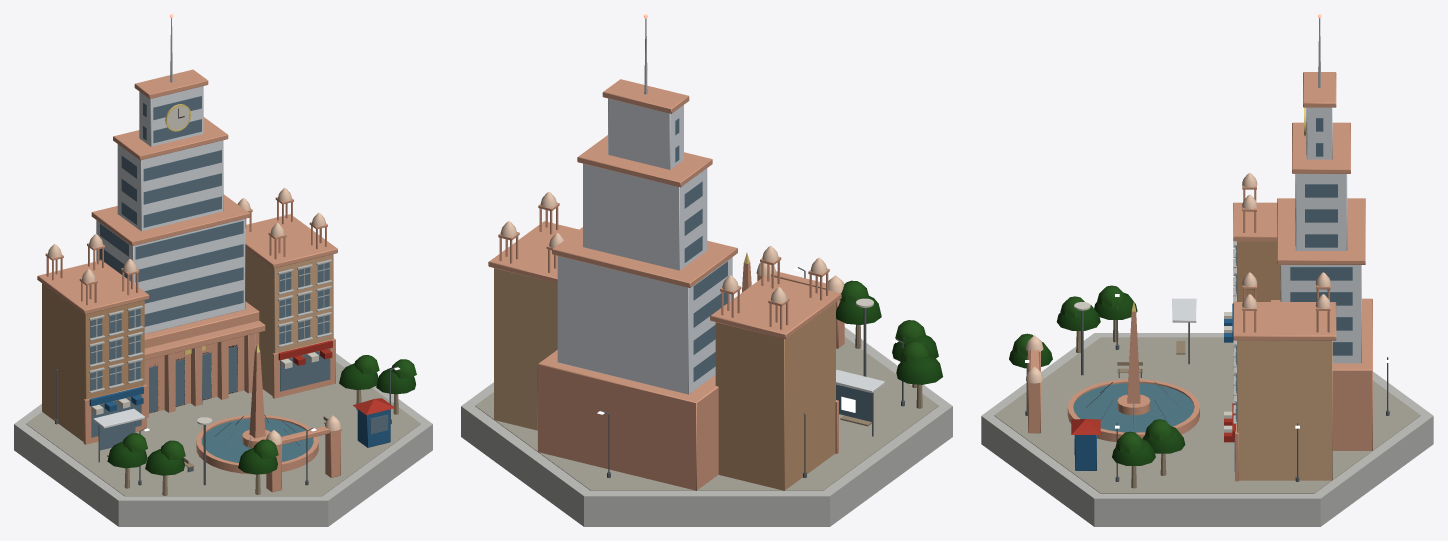
The model's file is cityCenter_india.glb.
3 views of the same model, side by side, from view 1: azimuth 30°, elevation 25°; view 2: azimuth 150°, elevation 25°; view 3: azimuth 270°, elevation 25° (orthographic). The views are drawn at different scales.
Visible parts, largest first — view 1: stone, glass, wall_concrete, pavers, plaster, cladding, leaf, paint, steel_dark, wood; view 2: stone, cladding, plaster, wall_concrete, pavers, leaf, glass, steel_dark; view 3: pavers, stone, wall_concrete, plaster, glass, cladding, leaf, paint, steel_dark, wood.
Part boxes in pixels (<box>): stone: <box>37,69,340,492</box>; glass: <box>90,96,388,462</box>; wall_concrete: <box>14,259,432,526</box>; pavers: <box>26,361,420,496</box>; plaster: <box>42,188,341,445</box>; cladding: <box>93,86,245,428</box>; leaf: <box>107,355,416,475</box>; paint: <box>89,106,394,447</box>; steel_dark: <box>55,367,396,485</box>; wood: <box>107,390,398,495</box>; stone: <box>488,79,844,490</box>; cladding: <box>557,98,884,394</box>; plaster: <box>494,192,844,490</box>; wall_concrete: <box>461,327,952,526</box>; pavers: <box>475,337,938,490</box>; leaf: <box>836,280,942,384</box>; glass: <box>675,118,871,421</box>; steel_dark: <box>602,267,904,477</box>; pavers: <box>994,337,1420,493</box>; stone: <box>1028,72,1372,481</box>; wall_concrete: <box>981,241,1433,526</box>; plaster: <box>1026,173,1332,480</box>; glass: <box>1073,108,1352,471</box>; cladding: <box>1172,107,1361,363</box>; leaf: <box>1009,285,1185,465</box>; paint: <box>1071,302,1235,470</box>; steel_dark: <box>1025,291,1389,481</box>; wood: <box>1076,320,1185,488</box>.
Bounding box in the file's own units: 21.3 × 25.76 × 24.6.
